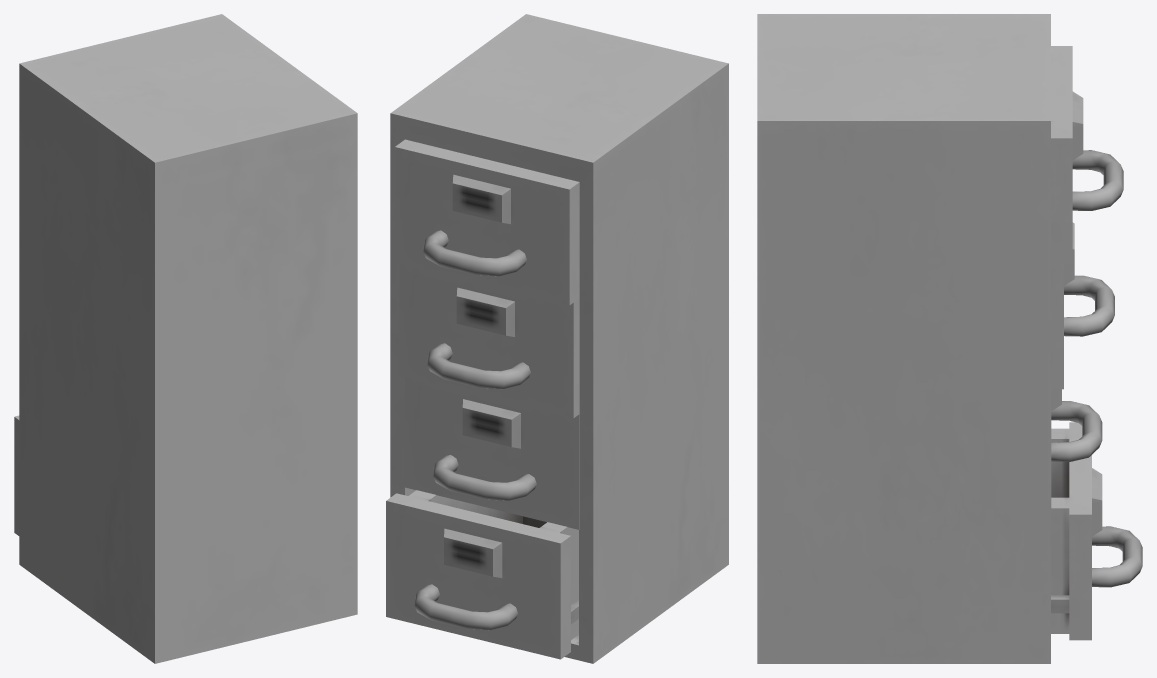
File: Pfb_FileCabient_M1__2.fbx
3 views of the same model, side by side, from view 1: azimuth 30°, elevation 25°; view 2: azimuth 150°, elevation 25°; view 3: azimuth 270°, elevation 25° (orthographic). The views are drawn at different scales.
Parts seen in each view (by area): view 1: Mat_FileCabient; view 2: Mat_FileCabient; view 3: Mat_FileCabient.
Part boxes in pixels (bbox=[...]): Mat_FileCabient: bbox=[14, 14, 357, 663]; Mat_FileCabient: bbox=[386, 14, 728, 663]; Mat_FileCabient: bbox=[757, 14, 1142, 663].
Bounding box in the file's own units: 0.6634 × 1.57 × 1.01.
1 material, 1 textured.
